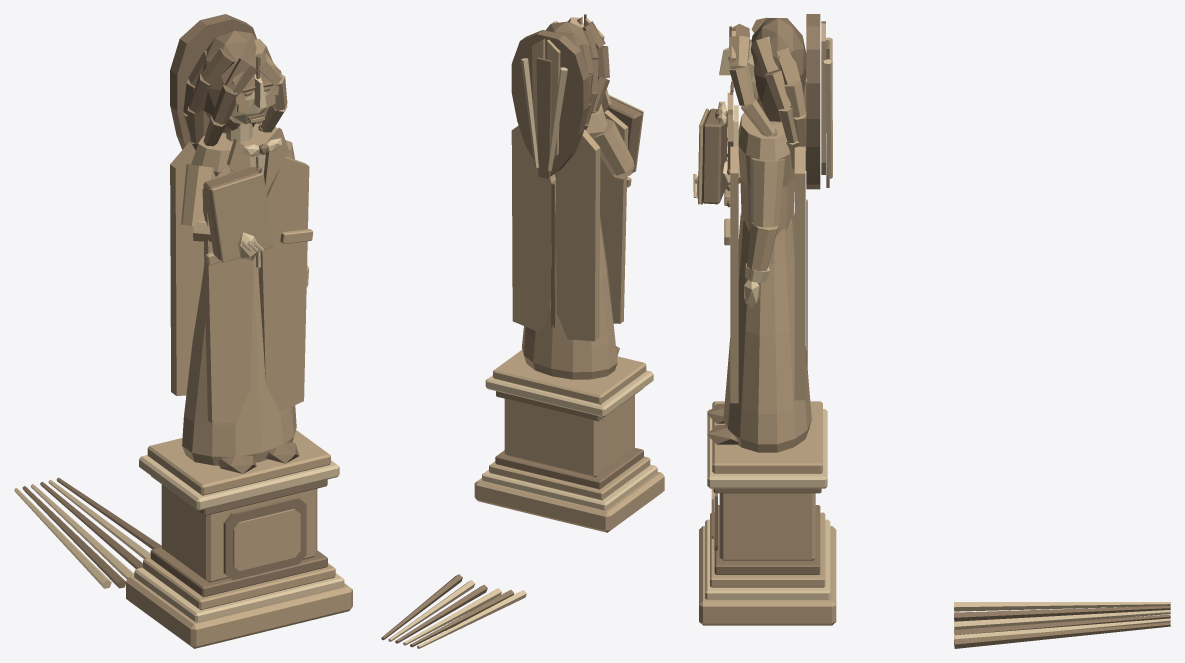
File: roxana-statue.glb
3 views of the same model, side by side, from view 1: azimuth 30°, elevation 25°; view 2: azimuth 150°, elevation 25°; view 3: azimuth 270°, elevation 25° (orthographic). The views are drawn at different scales.
Visible parts, largest first — view 1: Coat_Tail_Right, Figure_Dress, Coat_Tail_Left, Pedestal_Foot, Coat_Back_Left, Pedestal_Shaft, Pedestal_Cap, Book_Cover_Front, Pedestal_Plaque_Inset, Hair_Back_Mantle, Pedestal_Cornice, Pedestal_Step_01 (+22 smaller); view 2: Coat_Back_Left, Pedestal_Shaft, Coat_Back_Right, Figure_Dress, Hair_Back_Mantle, Pedestal_Foot, Coat_Tail_Left, Pedestal_Cap, Pedestal_Cornice, Pedestal_Step_01, Pedestal_Plinto_Low, Pedestal_Step_02 (+17 smaller); view 3: Figure_Dress, Pedestal_Shaft, Pedestal_Foot, Pedestal_Cap, Figure_Torso, Coat_Back_Right, Hair_Back_Mantle, Pedestal_Cornice, Hair_Crown_Back, Pedestal_Step_01, Coat_Tail_Right, Arm_Relaxed_Upper (+13 smaller).
Boxes of the visible parts, box(x1,y1,x2,y2) form: Coat_Tail_Right: box(258, 156, 309, 411); Figure_Dress: box(182, 256, 296, 465); Coat_Tail_Left: box(202, 168, 253, 423); Pedestal_Foot: box(126, 576, 352, 648); Coat_Back_Left: box(170, 142, 204, 395); Pedestal_Shaft: box(161, 484, 317, 582); Pedestal_Cap: box(147, 430, 330, 495); Book_Cover_Front: box(211, 173, 273, 262); Pedestal_Plaque_Inset: box(233, 509, 300, 570); Hair_Back_Mantle: box(170, 14, 256, 149); Pedestal_Cornice: box(139, 455, 339, 510); Pedestal_Step_01: box(134, 567, 344, 622); Coat_Back_Left: box(556, 129, 600, 341); Pedestal_Shaft: box(504, 395, 634, 477); Coat_Back_Right: box(511, 125, 555, 332); Figure_Dress: box(521, 203, 617, 379); Hair_Back_Mantle: box(511, 30, 589, 176); Pedestal_Foot: box(474, 472, 664, 532); Coat_Tail_Left: box(600, 110, 628, 323); Pedestal_Cap: box(493, 350, 646, 404); Pedestal_Cornice: box(485, 370, 653, 417); Pedestal_Step_01: box(482, 464, 657, 510); Pedestal_Plinto_Low: box(495, 448, 643, 489); Pedestal_Step_02: box(489, 456, 650, 500); Figure_Dress: box(723, 213, 811, 452); Pedestal_Shaft: box(719, 493, 815, 560); Pedestal_Foot: box(699, 526, 836, 625); Pedestal_Cap: box(712, 401, 822, 473); Figure_Torso: box(738, 112, 794, 235); Coat_Back_Right: box(794, 146, 805, 400); Hair_Back_Mantle: box(806, 14, 820, 189); Pedestal_Cornice: box(707, 409, 827, 488); Hair_Crown_Back: box(750, 18, 806, 122); Pedestal_Step_01: box(705, 519, 830, 599); Coat_Tail_Right: box(730, 146, 738, 403); Arm_Relaxed_Upper: box(750, 157, 784, 227).
Bounding box in the file's own units: 1.52 × 5.54 × 3.89.
